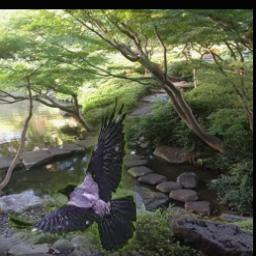Crow: (8, 95, 136, 252)
